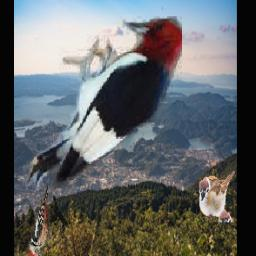Sparrow: (199, 170, 236, 222)
Woodpecker: (22, 17, 181, 190), (30, 187, 52, 256)
